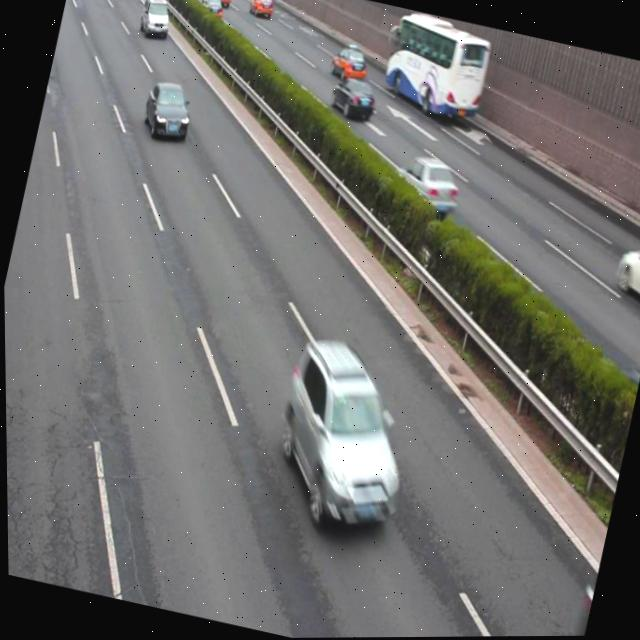car: (257, 333, 427, 540), (390, 151, 462, 218), (137, 77, 197, 145), (328, 73, 377, 122), (609, 237, 640, 309), (327, 39, 370, 83), (197, 0, 225, 21), (247, 0, 275, 20), (207, 0, 233, 7)
truck: (136, 0, 173, 38)
van: (371, 7, 494, 124)
